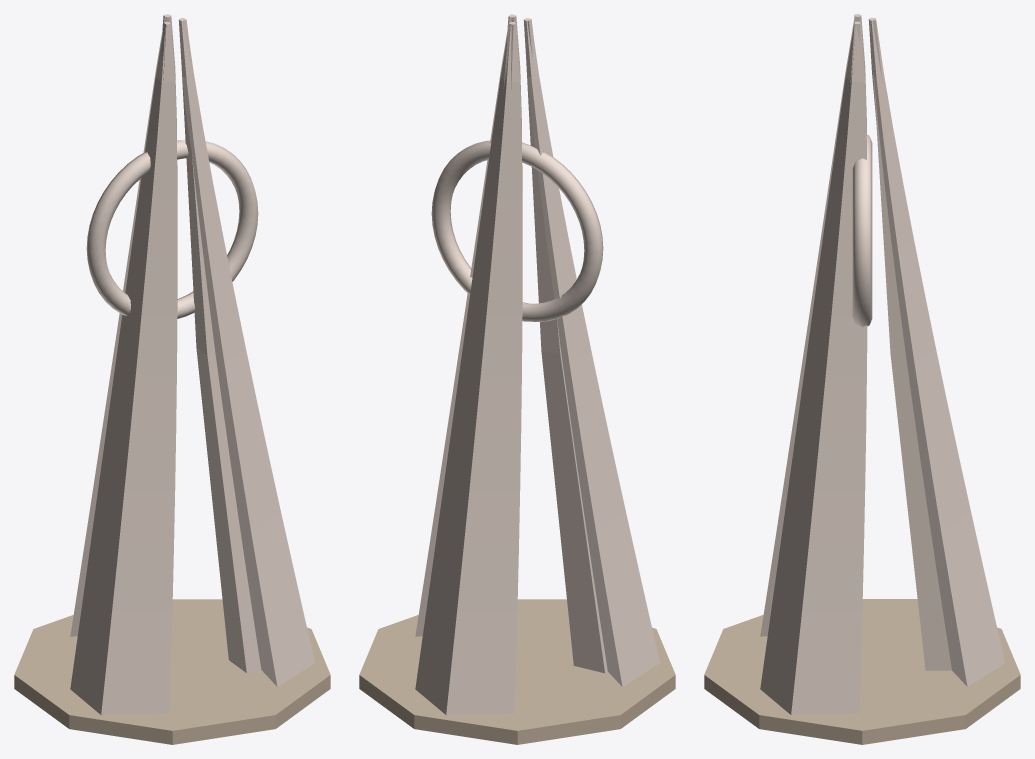
Rendered from city_monument.glb.
3 views of the same model, side by side, from view 1: azimuth 30°, elevation 25°; view 2: azimuth 150°, elevation 25°; view 3: azimuth 270°, elevation 25° (orthographic).
Visible parts, largest first — view 1: CityMonument_Fin1, CityMonument_Fin2, CityMonument_Footing, CityMonument_FarFin2, CityMonument_Ring, CityMonument_Fin0; view 2: CityMonument_Fin0, CityMonument_Footing, CityMonument_Fin1, CityMonument_FarFin1, CityMonument_Ring, CityMonument_Fin2; view 3: CityMonument_Fin2, CityMonument_Footing, CityMonument_Fin0, CityMonument_FarFin0, CityMonument_Ring, CityMonument_Fin1.
Part boxes in pixels (box(x1,y1,x2,y2)): CityMonument_Fin1: box(70, 22, 177, 715); CityMonument_Fin2: box(178, 18, 314, 686); CityMonument_Footing: box(14, 599, 330, 744); CityMonument_FarFin2: box(181, 18, 261, 673); CityMonument_Ring: box(86, 140, 258, 318); CityMonument_Fin0: box(70, 15, 177, 636); CityMonument_Fin0: box(415, 22, 522, 715); CityMonument_Footing: box(359, 599, 675, 744); CityMonument_Fin1: box(523, 18, 659, 686); CityMonument_FarFin1: box(524, 18, 607, 673); CityMonument_Ring: box(431, 140, 603, 321); CityMonument_Fin2: box(415, 15, 522, 636); CityMonument_Fin2: box(760, 21, 867, 715); CityMonument_Footing: box(704, 599, 1020, 744); CityMonument_Fin0: box(868, 17, 1004, 686); CityMonument_FarFin0: box(870, 18, 951, 670); CityMonument_Ring: box(852, 135, 872, 326); CityMonument_Fin1: box(760, 15, 866, 636).
Size of the model in its own units: 12.03 by 28.13 by 12.21.
